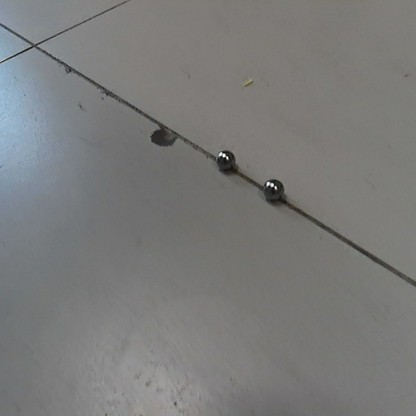ironball: (259, 173, 286, 207), (213, 145, 237, 175)
